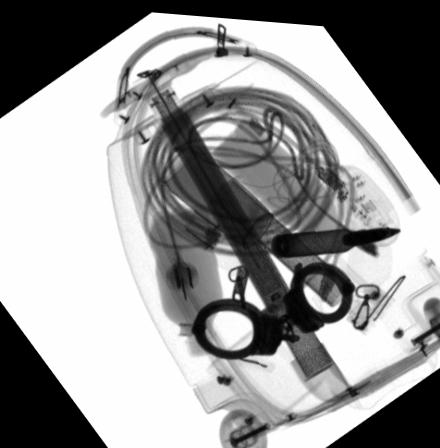Bullet: (270, 220, 401, 254)
HandCuffs: (189, 253, 355, 357)
